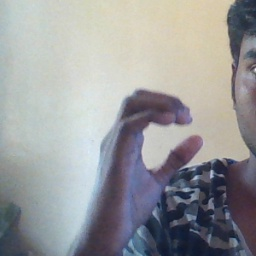C: (114, 81, 210, 193)
